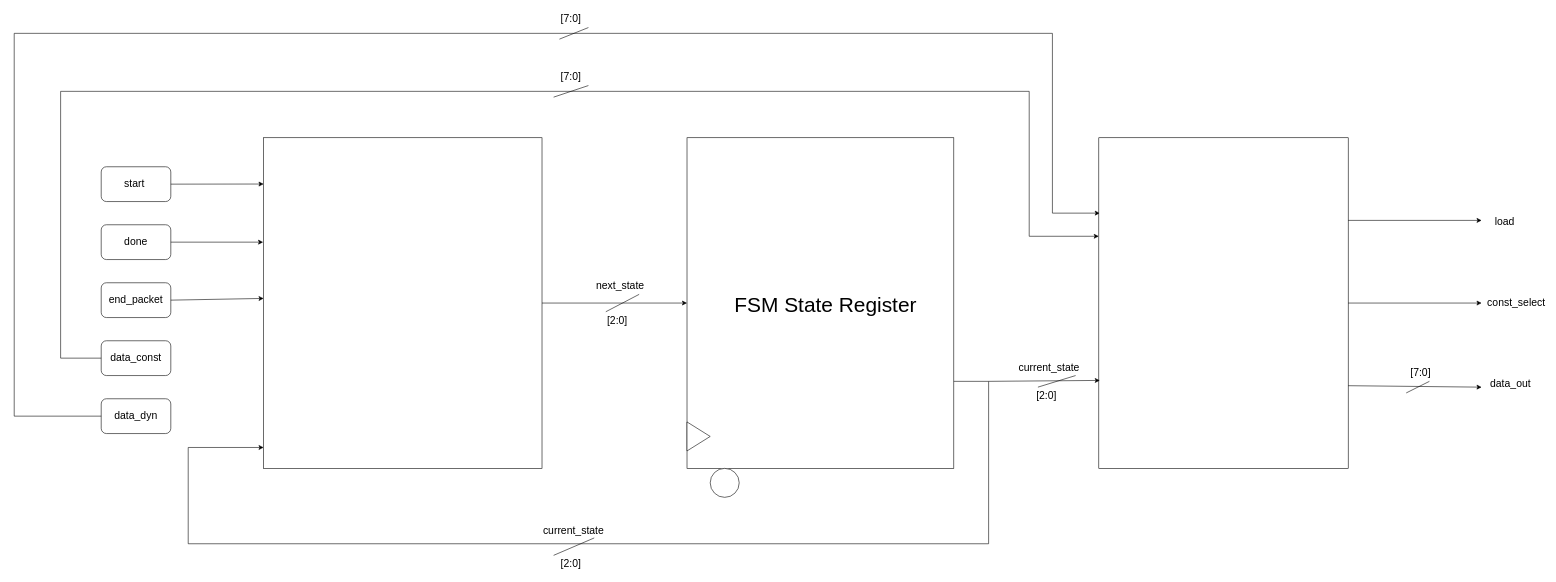
This 1556x582 diagram has some shape labels left out. Each missing label, with the box of its shape:
FSM Next State Logic: (263, 137, 542, 468)
FSM Output Logic: (1098, 137, 1348, 468)
